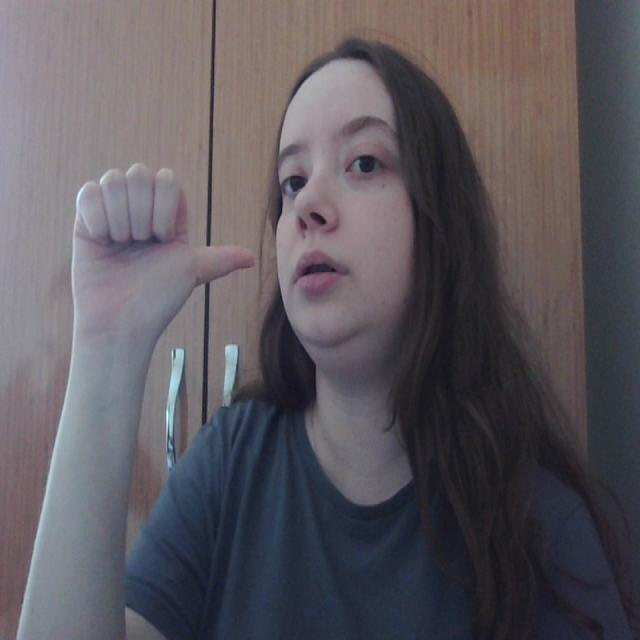icmek: (34, 160, 313, 371)
